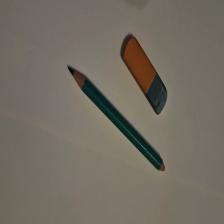eraser: (121, 36, 169, 117)
pencil: (68, 67, 166, 173)
